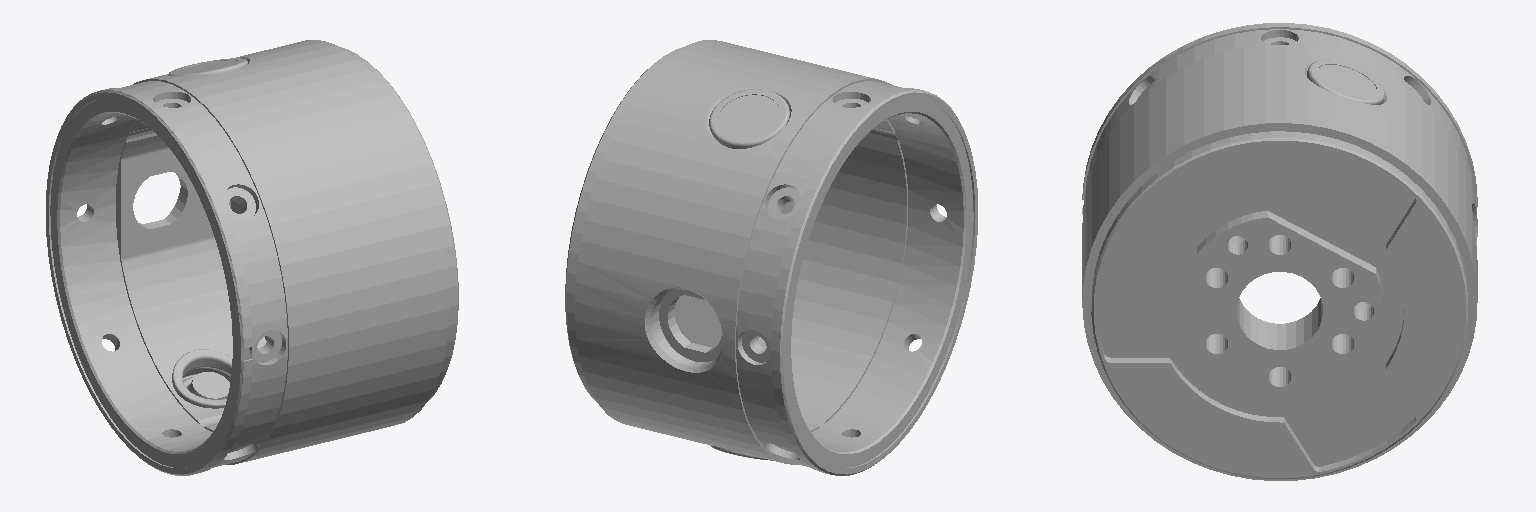
Rendered from arm_l8_2.obj.
The picture shows the model from 3 angles: view 1: azimuth 30°, elevation 25°; view 2: azimuth 150°, elevation 25°; view 3: azimuth 270°, elevation 25°; orthographic projection.
Size of the model in its own units: 0.0375 by 0.0573 by 0.057.